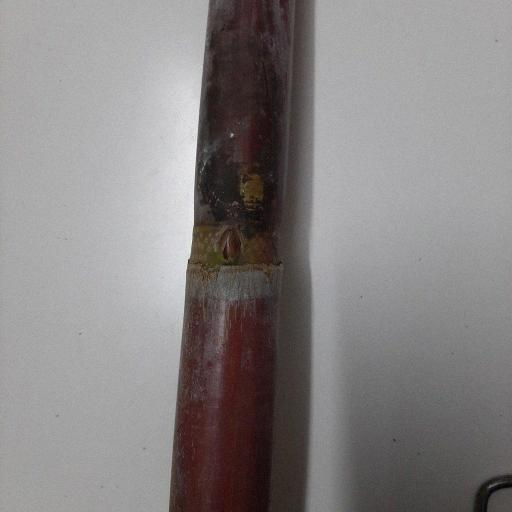Bud: (216, 228, 241, 266)
